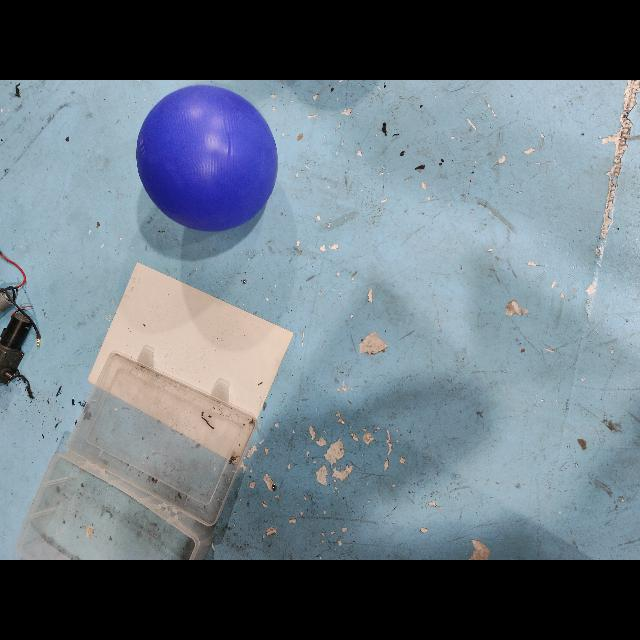B: (136, 86, 278, 232)
